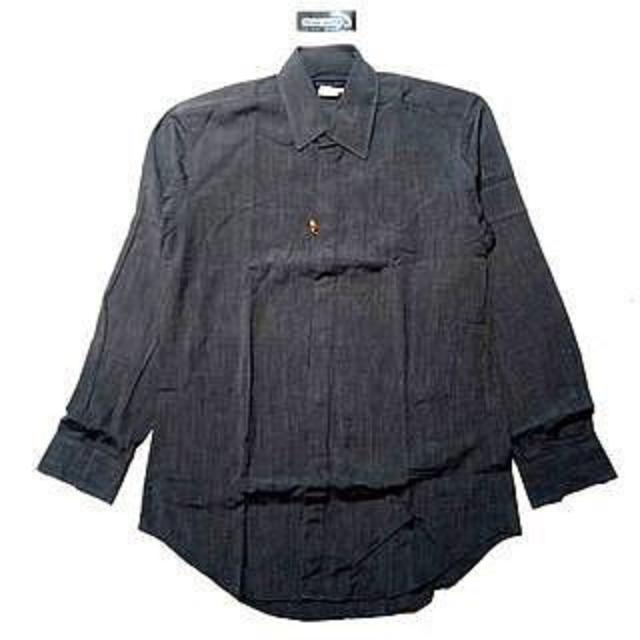SHIRT: (21, 34, 640, 630)
